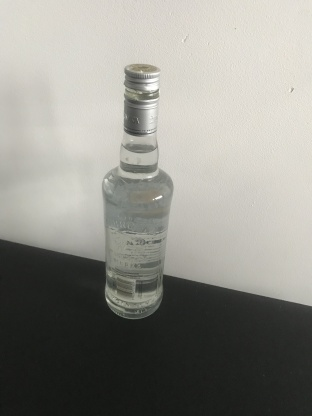nakretka: (122, 61, 161, 137)
